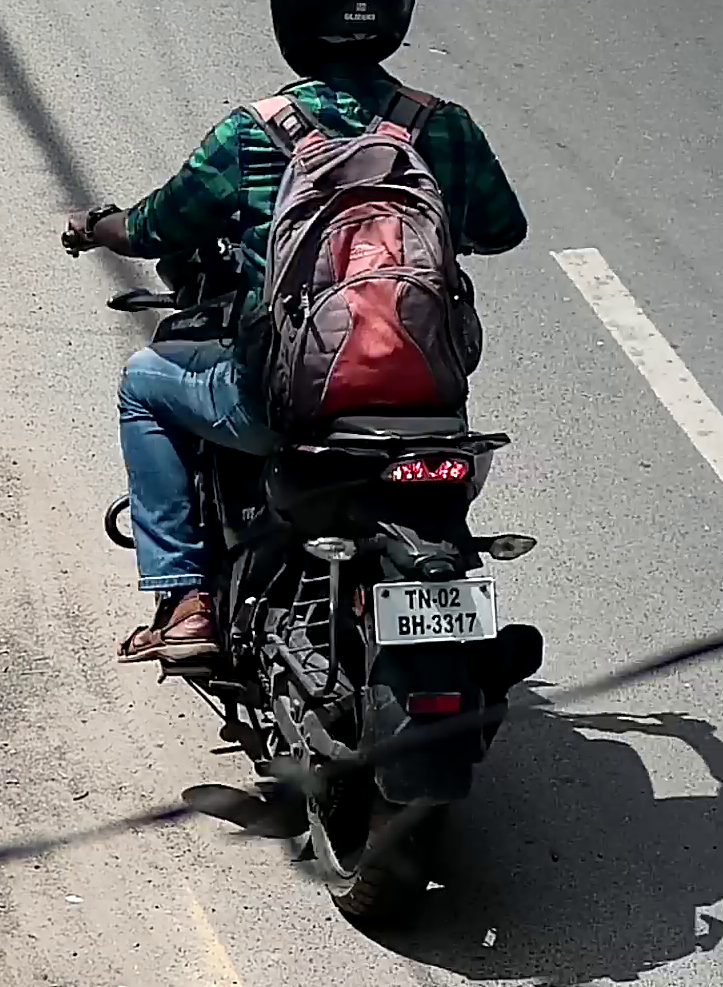-: (426, 624, 431, 630), (432, 598, 437, 603)
0: (438, 588, 448, 607)
1: (455, 612, 464, 633)
2: (449, 586, 461, 608)
3: (443, 613, 454, 634), (432, 614, 442, 634)
7: (465, 612, 477, 633)
B: (397, 615, 411, 635)
H: (411, 614, 425, 636)
N: (418, 588, 431, 609)
P16: (371, 575, 499, 646)
T: (405, 589, 417, 610)
